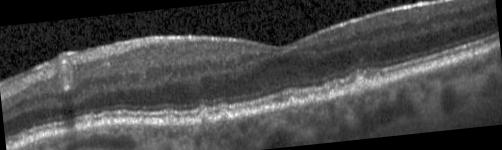retinal_drusen: (329, 85, 348, 99), (355, 75, 371, 91), (306, 93, 321, 102), (165, 115, 178, 125), (201, 112, 210, 124), (221, 109, 230, 120), (288, 98, 297, 107)
